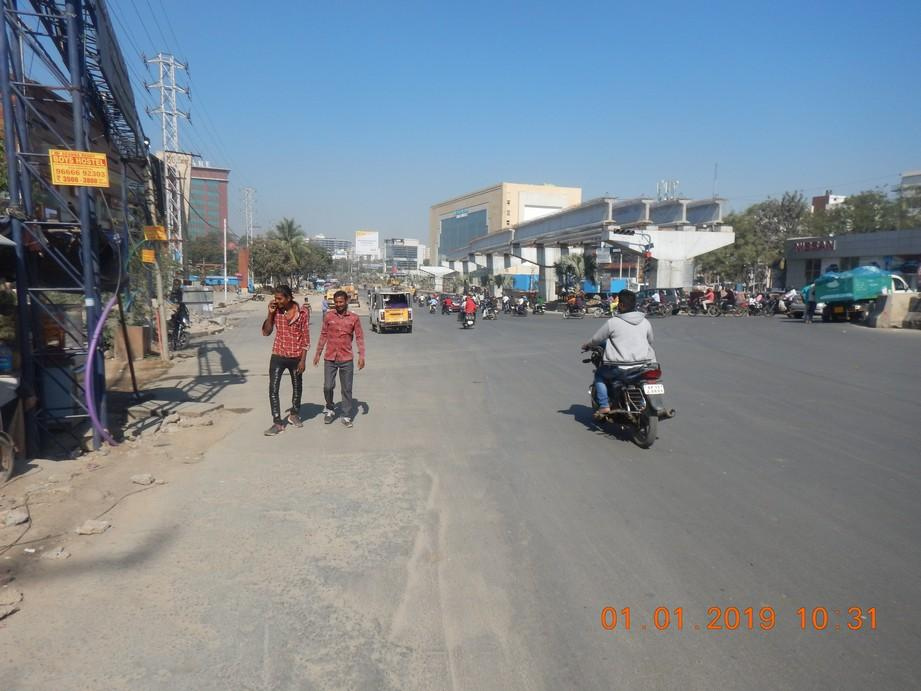plate: (643, 384, 666, 395)
